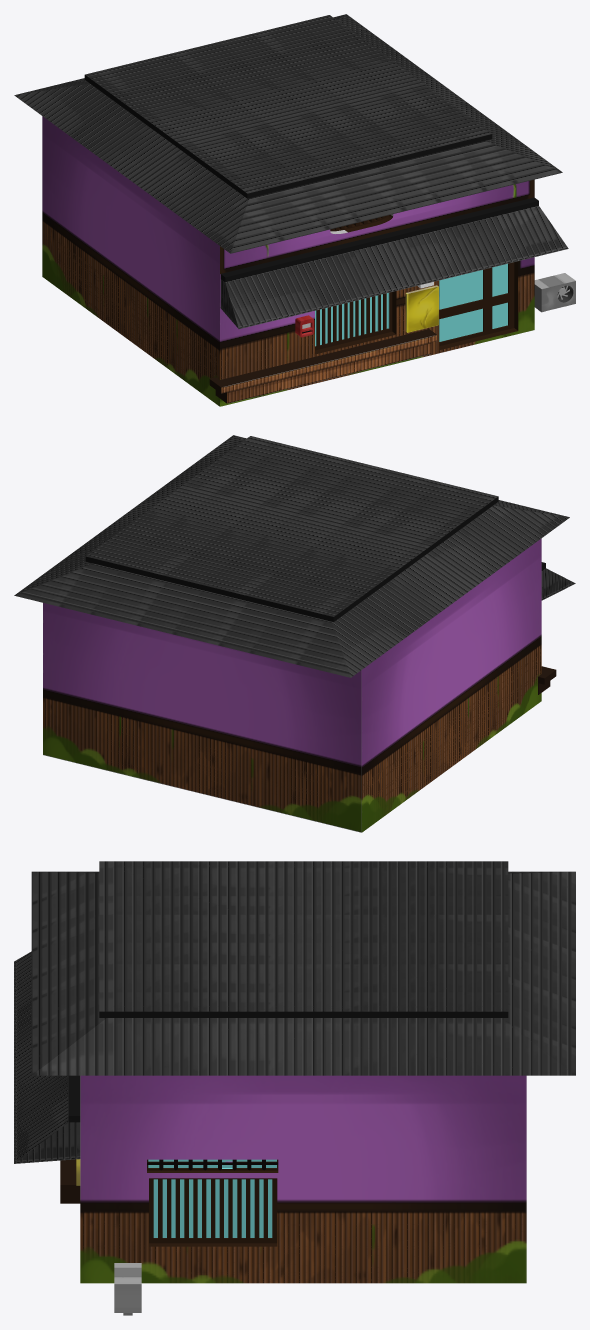
File: House_2_Purple_empty.fbx
3 renders of one model, top to bottom at view 1: azimuth 30°, elevation 25°; view 2: azimuth 150°, elevation 25°; view 3: azimuth 270°, elevation 25°, orthographic. The views are drawn at different scales.
Visible parts, largest first — view 1: Top, building, Cube.015, Cube.030, Cube.011, Cube.014, Cube.010, Cube.016, Cube.008; view 2: building, Top, Cube.015; view 3: Top, building, Cube.019, Cube.015, Cube.013, Cube.008, Cube.030.
Boxes of the visible parts, left/top/right/bottom form: Top: left=14, top=14, right=562, bottom=253; building: left=42, top=116, right=534, bottom=406; Cube.015: left=220, top=197, right=568, bottom=329; Cube.030: left=209, top=329, right=436, bottom=403; Cube.011: left=439, top=269, right=487, bottom=346; Cube.014: left=315, top=292, right=392, bottom=350; Cube.010: left=487, top=262, right=514, bottom=334; Cube.016: left=405, top=285, right=438, bottom=332; Cube.008: left=534, top=273, right=575, bottom=312; building: left=43, top=538, right=541, bottom=832; Top: left=14, top=435, right=569, bottom=677; Cube.015: left=541, top=562, right=575, bottom=600; Top: left=31, top=861, right=575, bottom=1075; building: left=80, top=1075, right=526, bottom=1283; Cube.019: left=149, top=1178, right=277, bottom=1243; Cube.015: left=14, top=951, right=80, bottom=1163; Cube.013: left=147, top=1159, right=278, bottom=1170; Cube.008: left=114, top=1263, right=141, bottom=1315; Cube.030: left=60, top=1159, right=80, bottom=1203.
Size of the model in its own units: 1609 by 812 by 1647.
